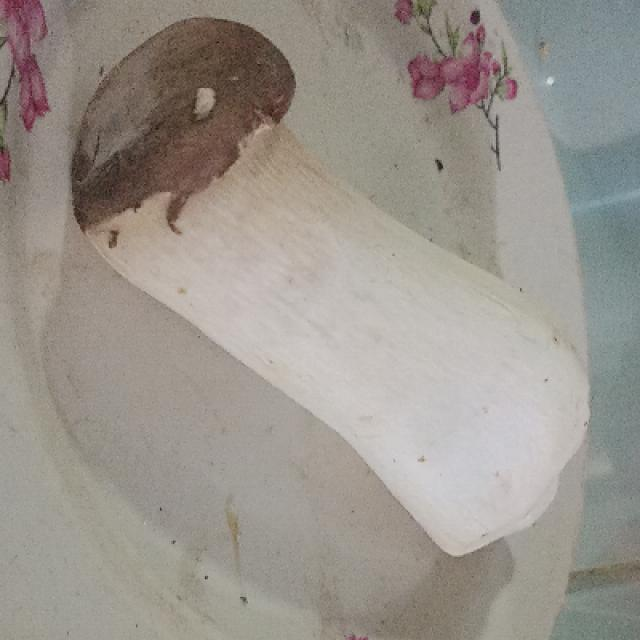Pleurotus eryngii: (73, 18, 591, 558)
